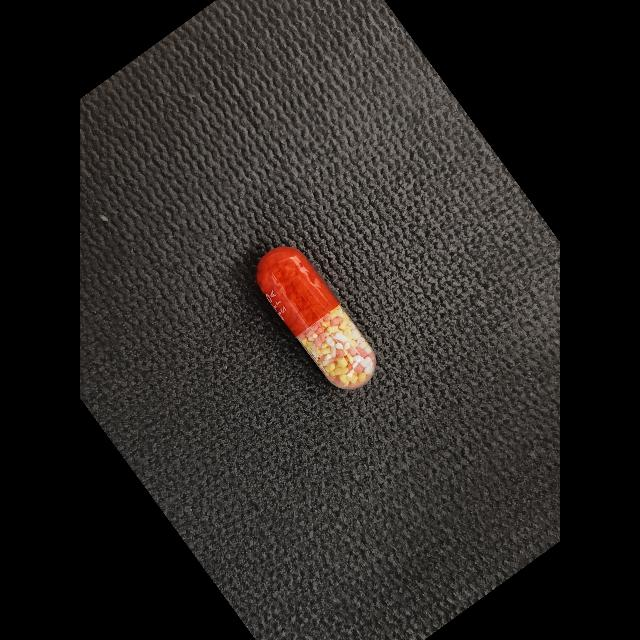Intact Capsule: (256, 247, 376, 390)
